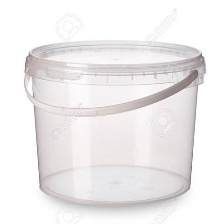plastic_box: (14, 29, 211, 211)
